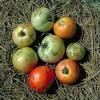tomato bacterial spot: (12, 28, 40, 76), (38, 34, 66, 65), (54, 16, 83, 45), (28, 66, 56, 94), (56, 60, 85, 87), (13, 22, 38, 53), (32, 8, 56, 35), (66, 43, 91, 65)
